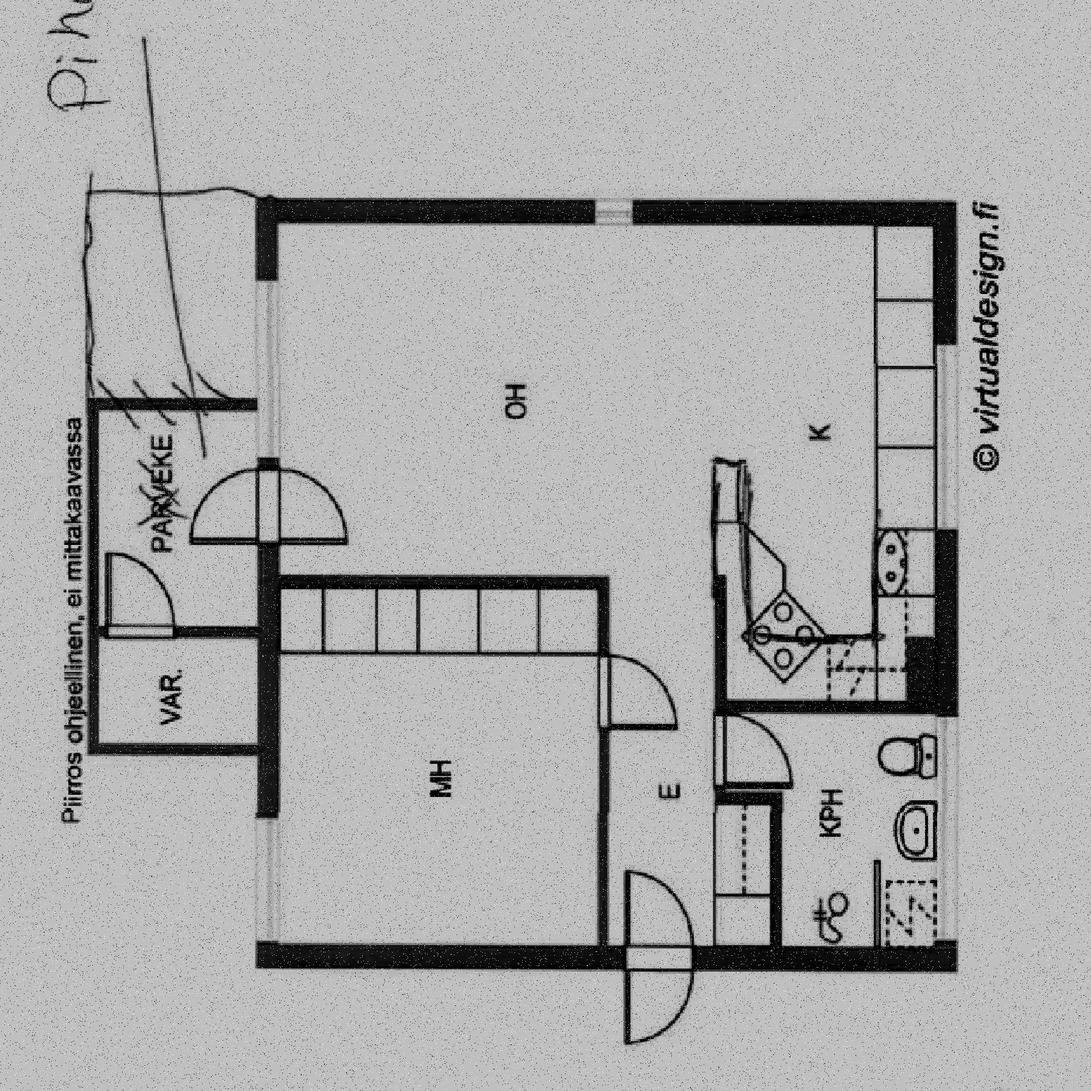wall: (257, 199, 279, 968), (936, 199, 957, 968), (257, 199, 957, 222), (257, 945, 957, 968), (595, 575, 606, 967), (257, 576, 607, 588), (712, 700, 956, 712), (712, 575, 723, 801), (771, 790, 782, 968), (87, 744, 279, 754), (87, 627, 279, 637), (86, 626, 96, 753), (713, 790, 782, 802)
